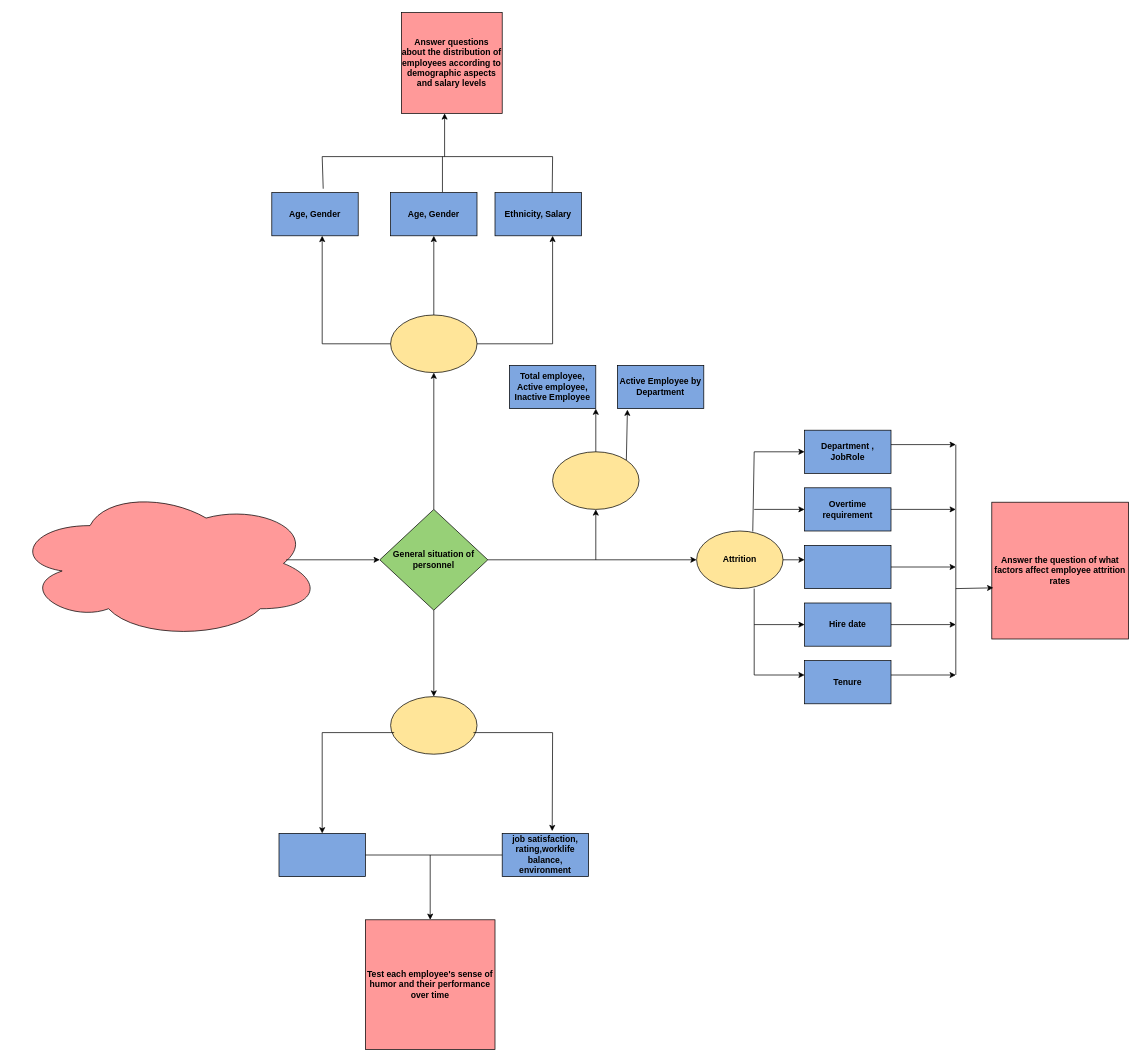
Image size: 1141x1062. Some labels were removed from this diagram. The box of each missing label's shape, as (x1, y1, x2, y2) in pixels:
Demographics: (390, 314, 477, 373)
General information: (552, 451, 639, 509)
Performance Tracker: (390, 696, 477, 754)
Problem: employee situation and personnel attrition rate: (12, 487, 322, 639)
review date: (278, 833, 365, 877)
Travel Frequency: (804, 545, 891, 589)
